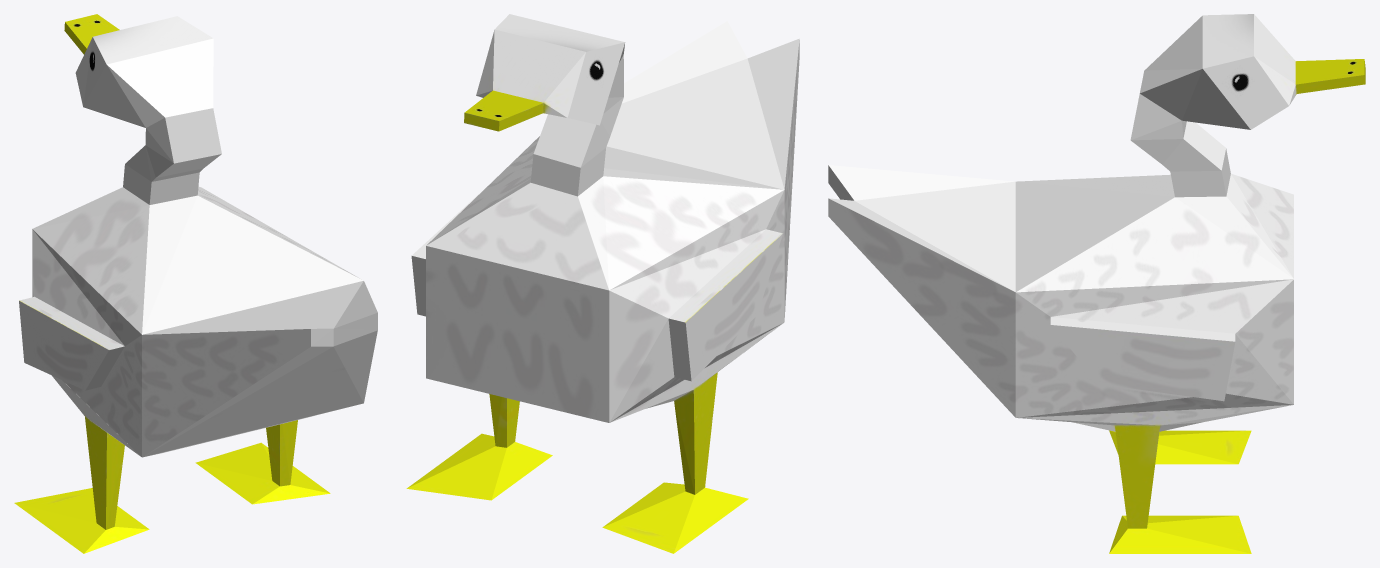
Rendered from duck.obj.
3 renders of one model, left to right at view 1: azimuth 30°, elevation 25°; view 2: azimuth 150°, elevation 25°; view 3: azimuth 270°, elevation 25°, orthographic. The views are drawn at different scales.
Parts seen in each view (by area): view 1: duck_Cube.001; view 2: duck_Cube.001; view 3: duck_Cube.001.
Part boxes in pixels (<box>): duck_Cube.001: <box>14,14,377,553</box>; duck_Cube.001: <box>406,14,799,553</box>; duck_Cube.001: <box>828,14,1365,553</box>.
Size of the model in its own units: 1.6 by 2.69 by 2.87.
Materials: 1 (1 with a texture image).
